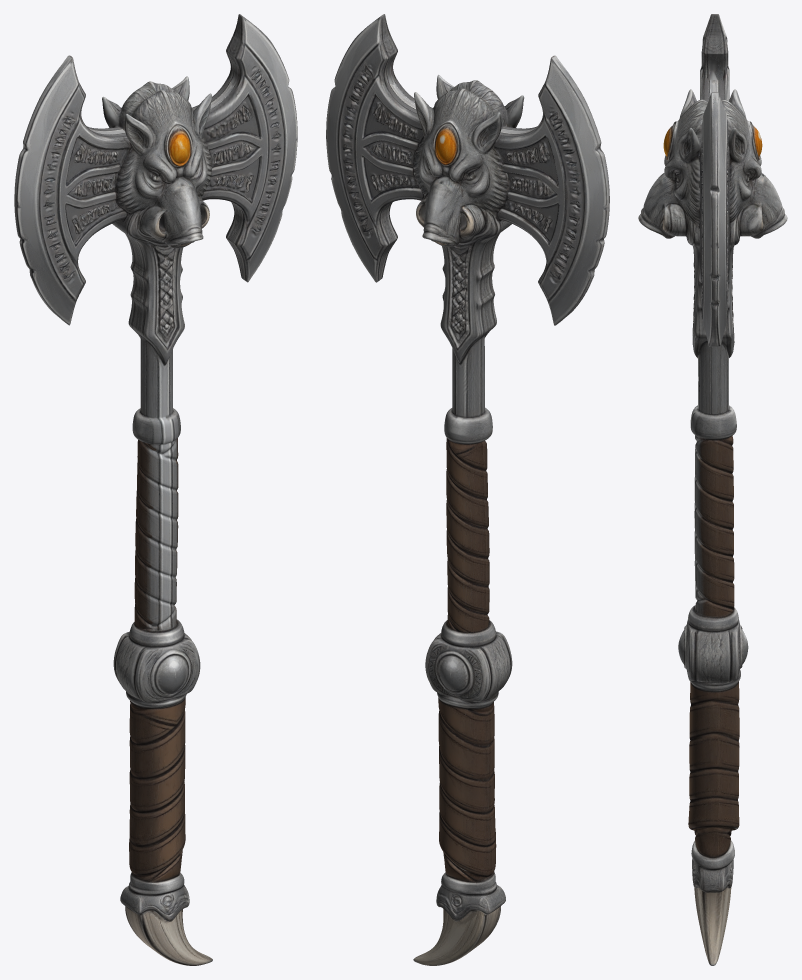
File: Meshy_AI_Boarhead_Rune_Axe_Blu_0928082648_texture.glb
3 renders of one model, left to right at view 1: azimuth 30°, elevation 25°; view 2: azimuth 150°, elevation 25°; view 3: azimuth 270°, elevation 25°, orthographic. The views are drawn at different scales.
Bounding box in the file's own units: 0.5986 × 1.9 × 0.2894.
1 material, 1 textured.
